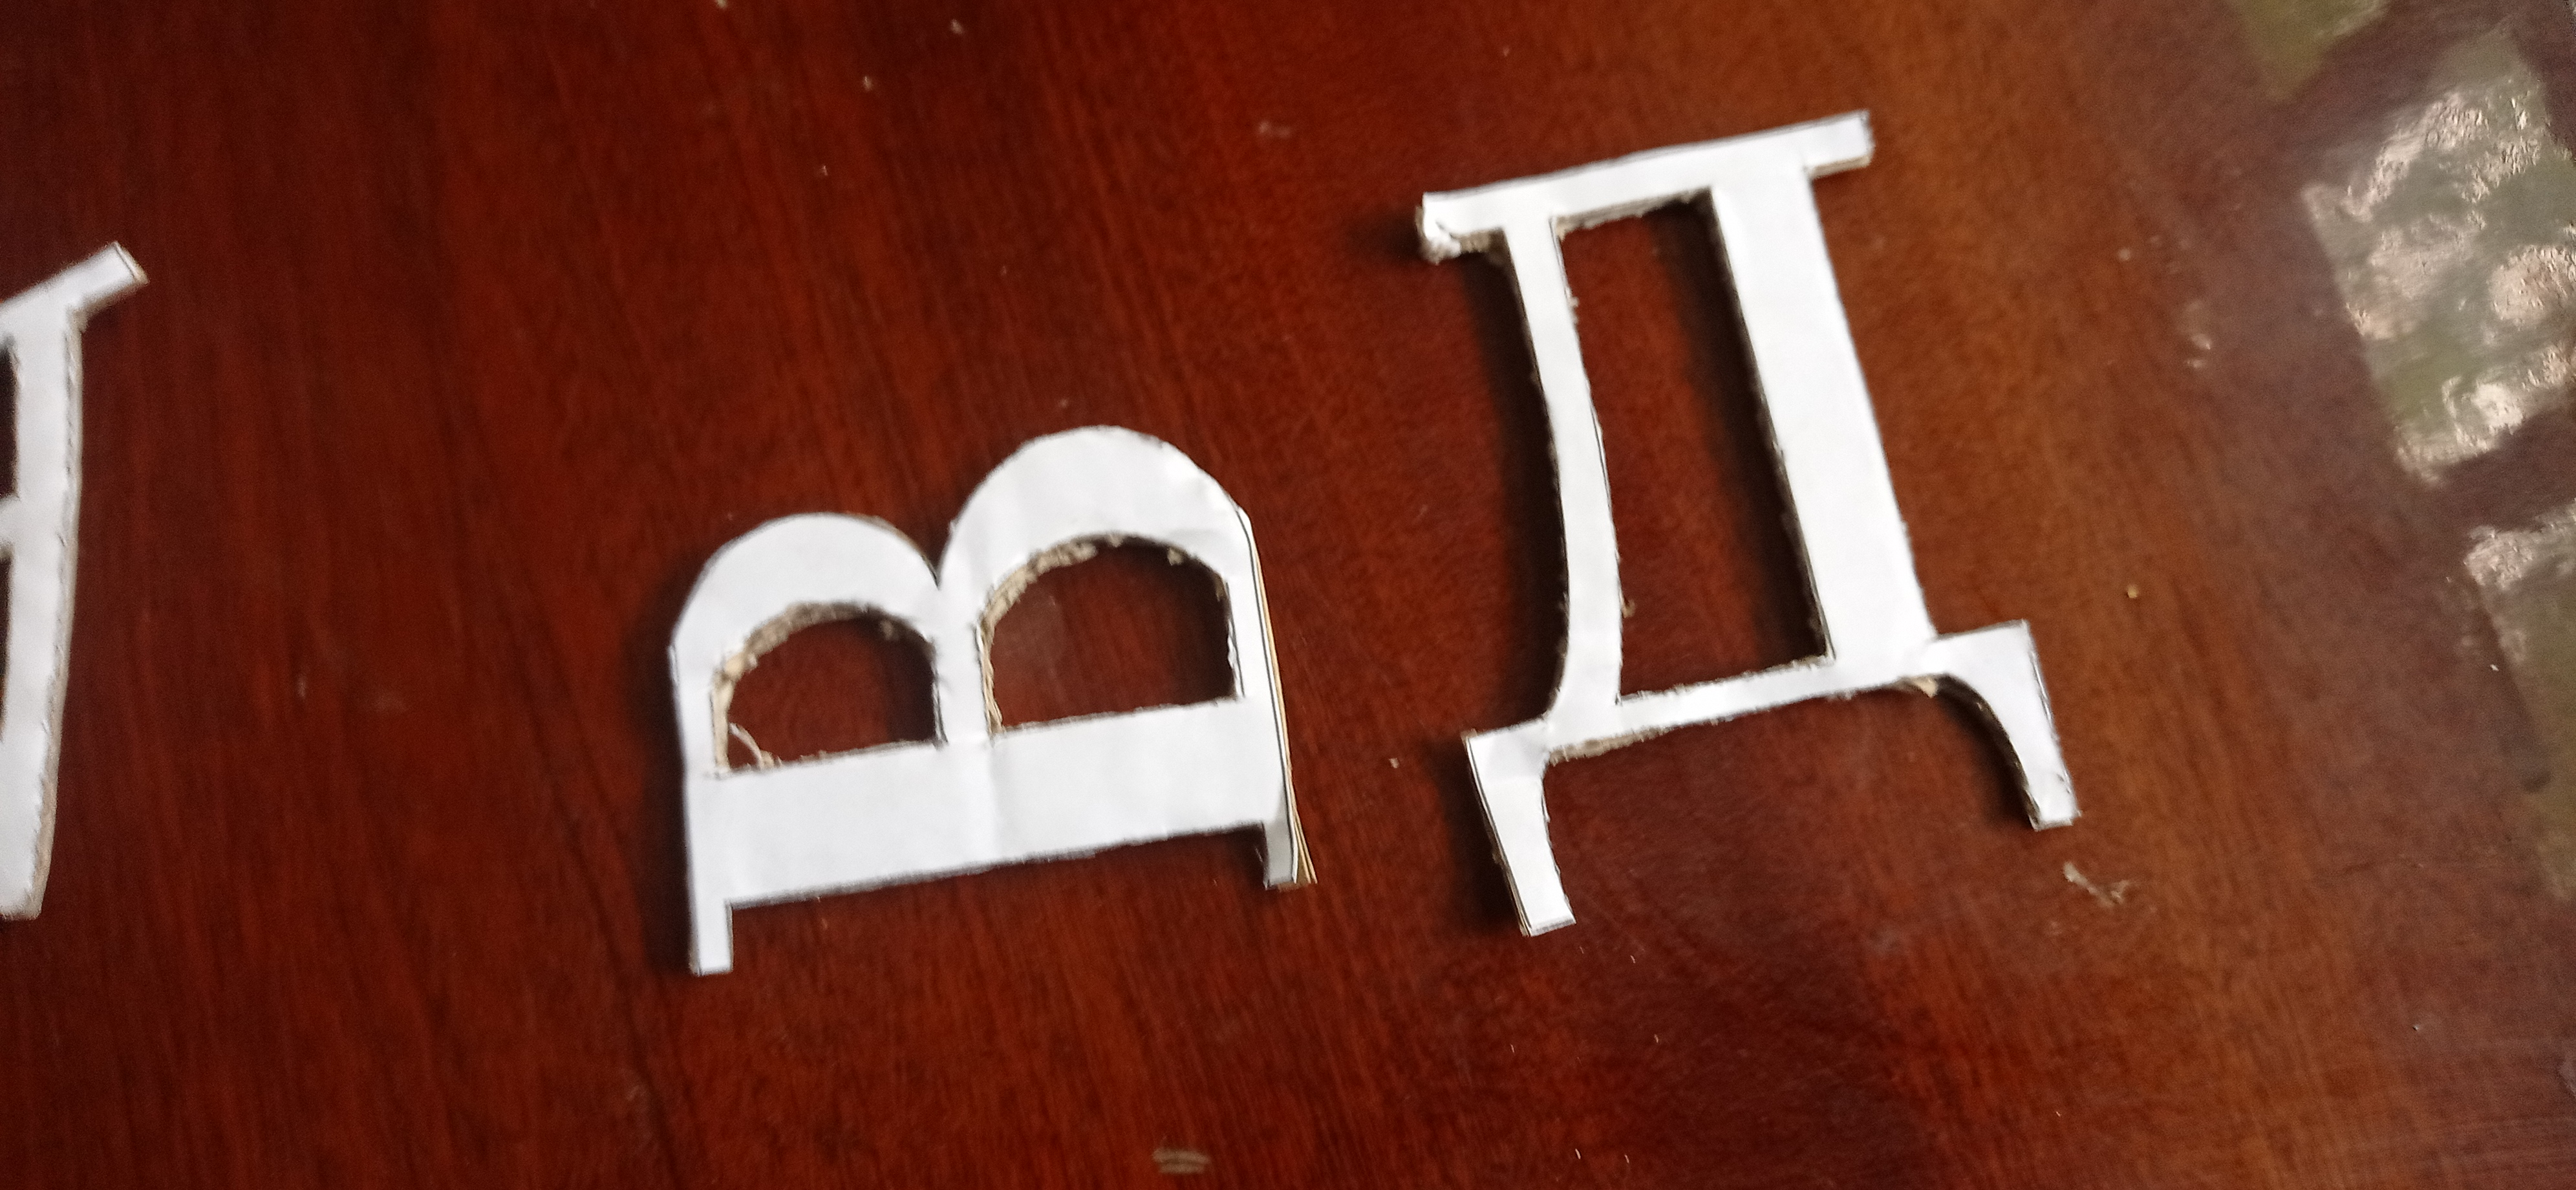a: (2, 240, 150, 925)
d: (1418, 108, 2086, 942)
v: (667, 419, 1321, 976)
